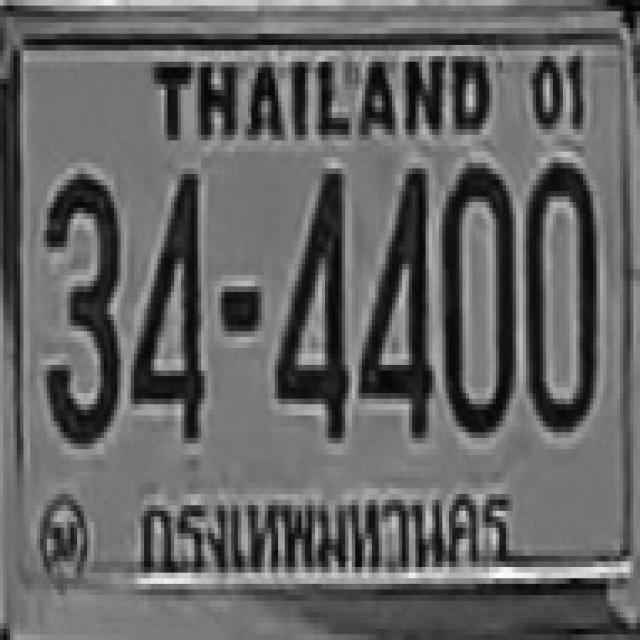0: (439, 163, 513, 432), (524, 157, 595, 427)
3: (44, 168, 117, 444)
4: (273, 163, 347, 438), (355, 163, 429, 432), (131, 166, 201, 435)
Bangkok: (135, 483, 521, 582)
